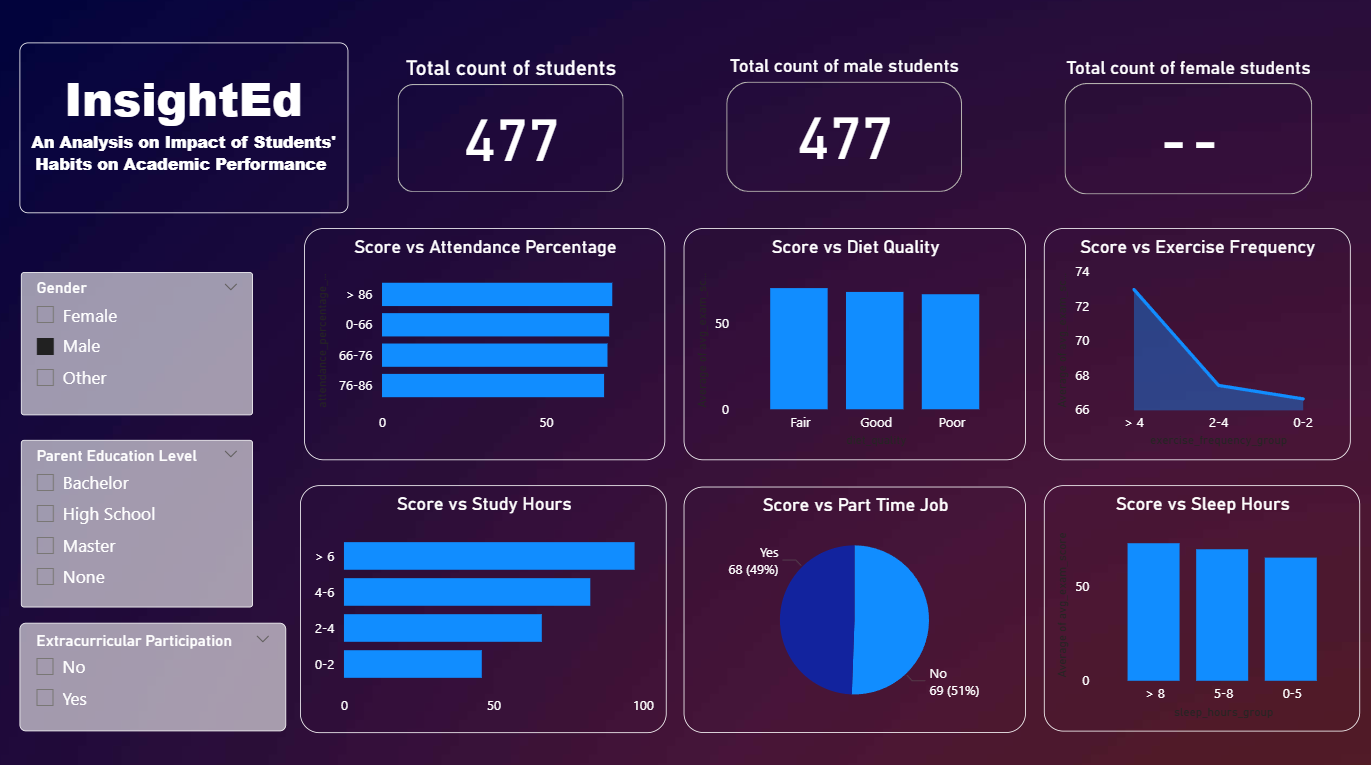

Layout of this report page (visuals, bound fields, positions):
{"tool":"powerbi","page":{"name":"Page 1","canvas":[1280,720],"ordinal":0},"visuals":[{"type":"cardVisual","title":"Total count of students","fields":{"Data":["Sum(dataset.count_of_students)"]},"box":[369.9,57.2,219.9,132.2],"z":0},{"type":"cardVisual","title":"Total count of female students","fields":{"Data":["Sum(dataset.count_of_students)"]},"box":[985.8,58.5,239.5,133],"z":1000},{"type":"cardVisual","title":"Total count of male students","fields":{"Data":["Sum(dataset.count_of_students)"]},"box":[673.1,57.2,228.8,131.7],"z":2000},{"type":"barChart","title":"Score vs Attendance Percentage","fields":{"Category":["dataset.attendance_percentage_group"],"Y":["Avg(dataset.avg_exam_score)"]},"box":[288.7,216.8,333.9,214.2],"z":3000},{"type":"clusteredColumnChart","title":"Score vs Diet Quality","fields":{"Y":["Avg(dataset.avg_exam_score)"],"Category":["dataset.diet_quality"]},"box":[639.9,216.8,316.6,214.2],"z":4000},{"type":"stackedAreaChart","title":"Score vs Exercise Frequency","fields":{"Category":["dataset.exercise_frequency_group"],"Y":["Avg(dataset.avg_exam_score)"]},"box":[972.5,216.8,283.4,214.2],"z":5000},{"type":"barChart","title":"Score vs Study Hours","fields":{"Category":["dataset.study_hours_per_day_group"],"Y":["Avg(dataset.avg_exam_score)"]},"box":[284.7,455,339.2,228.8],"z":6000},{"type":"pieChart","title":"Score vs Part Time Job","fields":{"Category":["dataset.part_time_job"],"Y":["Avg(dataset.avg_exam_score)"]},"box":[639.9,456.3,316.6,227.5],"z":7000},{"type":"clusteredColumnChart","title":"Score vs Sleep Hours","fields":{"Y":["Avg(dataset.avg_exam_score)"],"Category":["dataset.sleep_hours_group"]},"box":[972.5,455,292.7,227.5],"z":8000},{"type":"slicer","fields":{"Values":["dataset.gender"]},"box":[26.7,258,214.8,132.2],"z":9000},{"type":"slicer","fields":{"Values":["dataset.parental_education_level"]},"box":[26.7,413.1,214.8,155.1],"z":10000},{"type":"slicer","fields":{"Values":["dataset.extracurricular_participation"]},"box":[25.4,582.1,246.6,100.4],"z":11000},{"type":"textbox","box":[25.4,45.8,303.8,157.6],"z":12000}]}

Visuals, with their boxes in screenshot pixels (x1, y1, x2, y2), scaled from the page's 1280x720 canvas onto the 1371x765 screenshot:
"Total count of students" cardVisual: 396/61/632/201
"Total count of female students" cardVisual: 1056/62/1312/203
"Total count of male students" cardVisual: 721/61/966/201
"Score vs Attendance Percentage" barChart: 309/230/667/458
"Score vs Diet Quality" clusteredColumnChart: 685/230/1025/458
"Score vs Exercise Frequency" stackedAreaChart: 1042/230/1345/458
"Score vs Study Hours" barChart: 305/483/668/727
"Score vs Part Time Job" pieChart: 685/485/1025/727
"Score vs Sleep Hours" clusteredColumnChart: 1042/483/1355/725
slicer - dataset.gender: 29/274/259/415
slicer - dataset.parental_education_level: 29/439/259/604
slicer - dataset.extracurricular_participation: 27/618/291/725
textbox: 27/49/353/216
